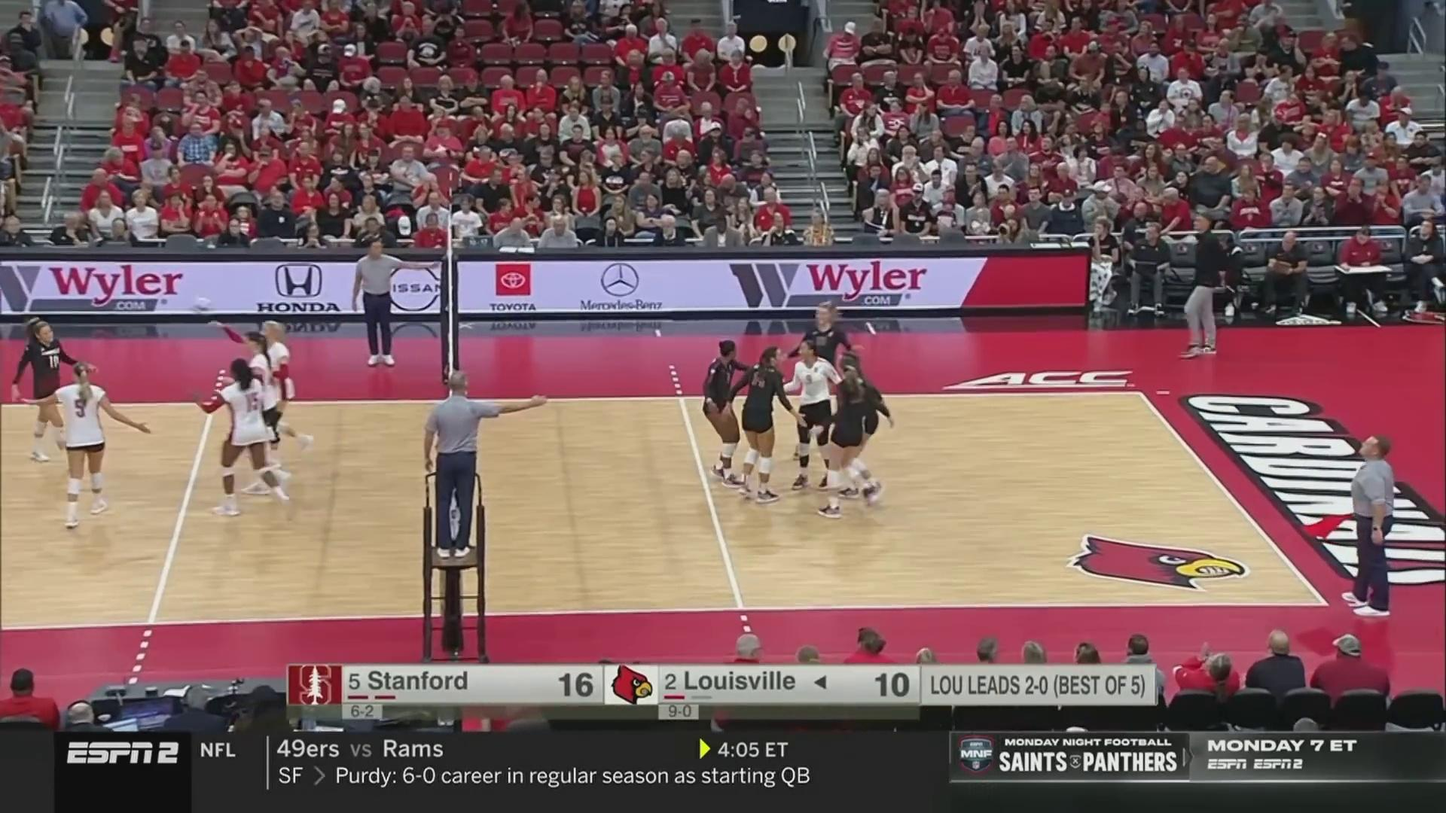player: (41, 361, 150, 530), (200, 360, 291, 514), (236, 320, 312, 465), (790, 303, 861, 457), (783, 339, 846, 496), (822, 351, 887, 502), (737, 345, 797, 502), (228, 332, 279, 494), (21, 322, 78, 459), (821, 365, 871, 521), (704, 340, 754, 486)
refree: (426, 371, 520, 561), (1334, 433, 1403, 618), (353, 242, 404, 365)
